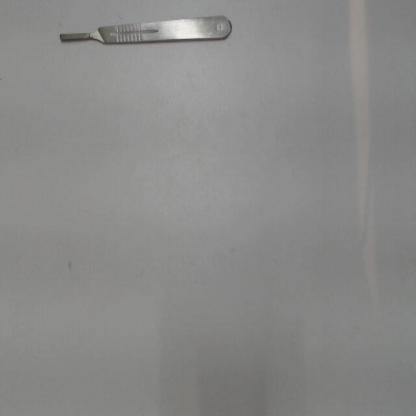No.4 BP Handle: (52, 11, 239, 53)
